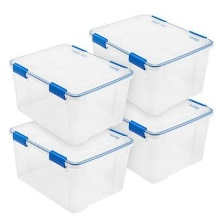plastic_box: (83, 7, 220, 121), (5, 36, 139, 150), (5, 112, 138, 217), (102, 92, 218, 188)
